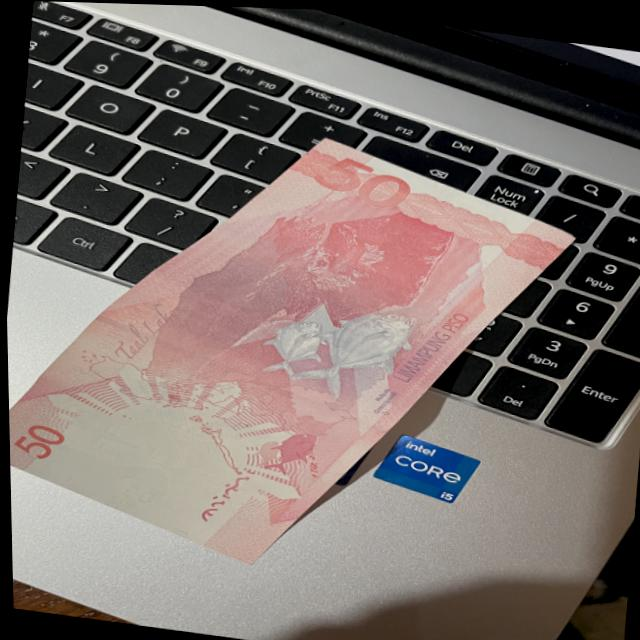50_maliputo: (249, 283, 419, 417)
50_maliputo_watermark: (250, 417, 325, 479)
see_through_mark: (180, 449, 251, 531)
value_watermark: (103, 474, 166, 511)
watermark: (53, 391, 228, 513)
